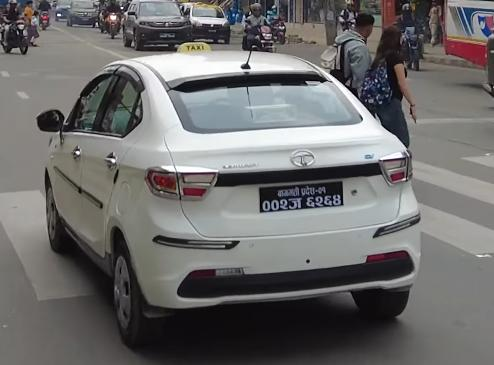bike: (396, 25, 428, 75), (0, 11, 31, 55), (242, 21, 277, 55), (102, 6, 124, 40)
car: (122, 1, 195, 52), (67, 1, 99, 31)
scooter: (261, 13, 288, 45), (35, 8, 55, 32)
taxi: (31, 36, 434, 348), (178, 0, 234, 45)
